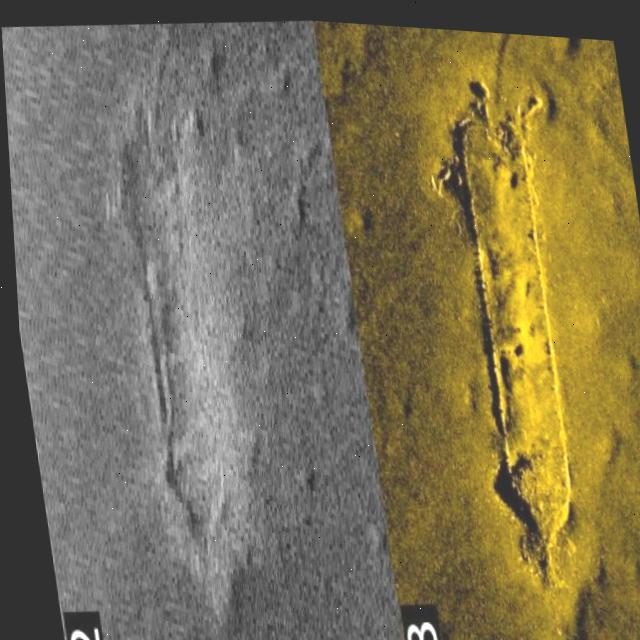shipwreck: (440, 68, 580, 566), (112, 102, 245, 537)
